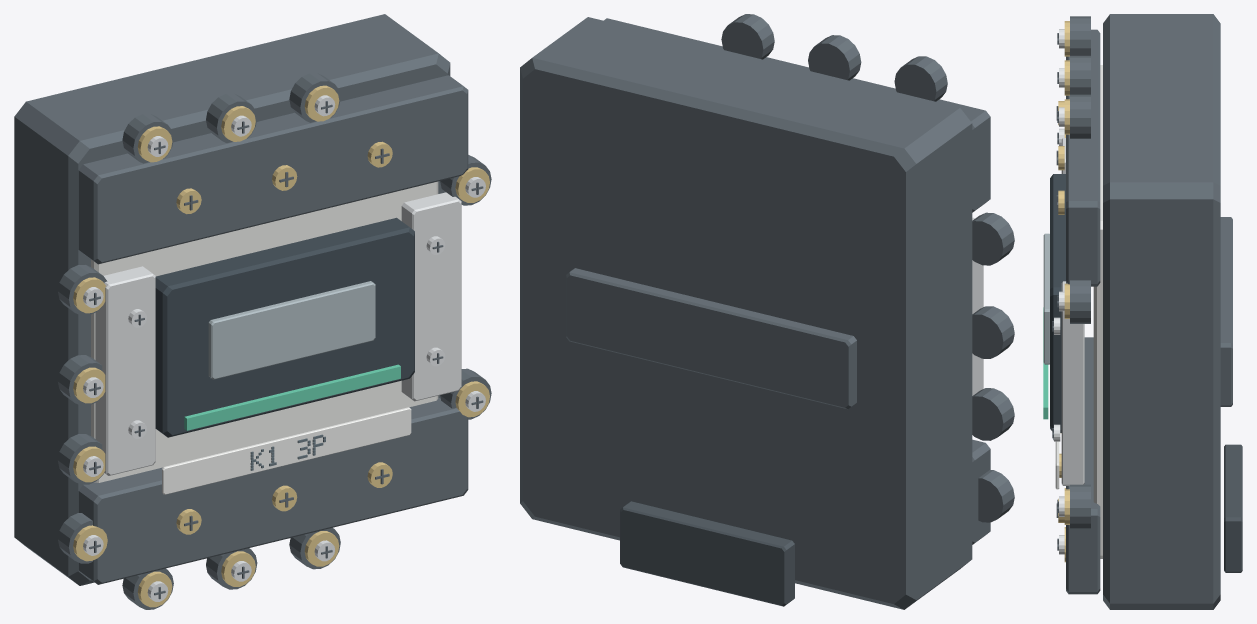
The model's file is contactor.glb.
The picture shows the model from 3 angles, left to right: view 1: azimuth 30°, elevation 25°; view 2: azimuth 150°, elevation 25°; view 3: azimuth 270°, elevation 25°; orthographic projection. The views are drawn at different scales.
Parts seen in each view (by area): view 1: contactor-preview; view 2: contactor-preview; view 3: contactor-preview.
Part boxes in pixels (left/top/right/bottom): contactor-preview: left=14, top=14, right=491, bottom=609; contactor-preview: left=520, top=14, right=1014, bottom=609; contactor-preview: left=1043, top=14, right=1242, bottom=609.
Bounding box in the file's own units: 3.27 × 3.61 × 1.39.
